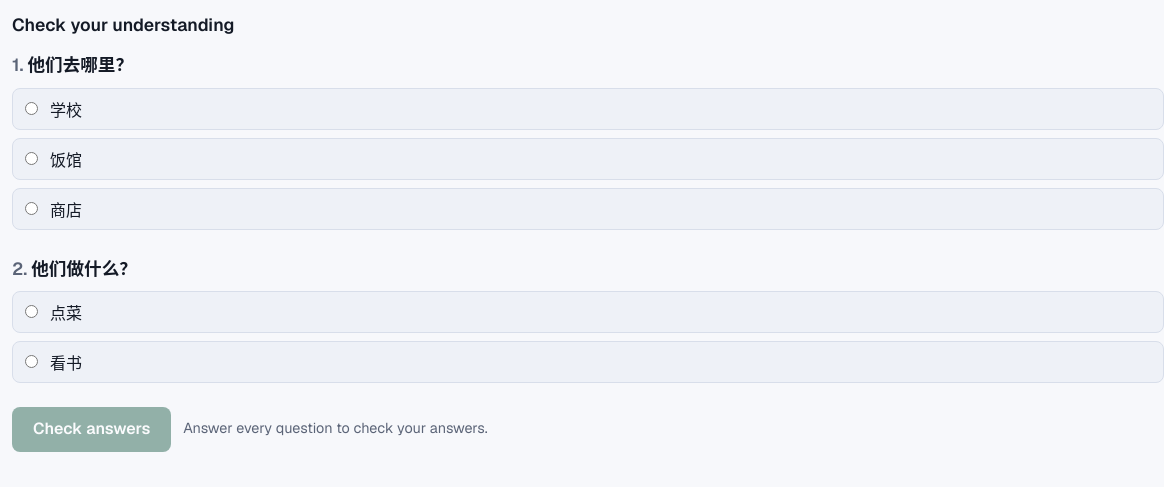
Test: StoryQuiz › says so and keeps the answers when checking fails
The width and height of the screenshot is (1164, 487).
Click the radio button labelled "饭馆" at (32, 158), box [25,152,38,165]
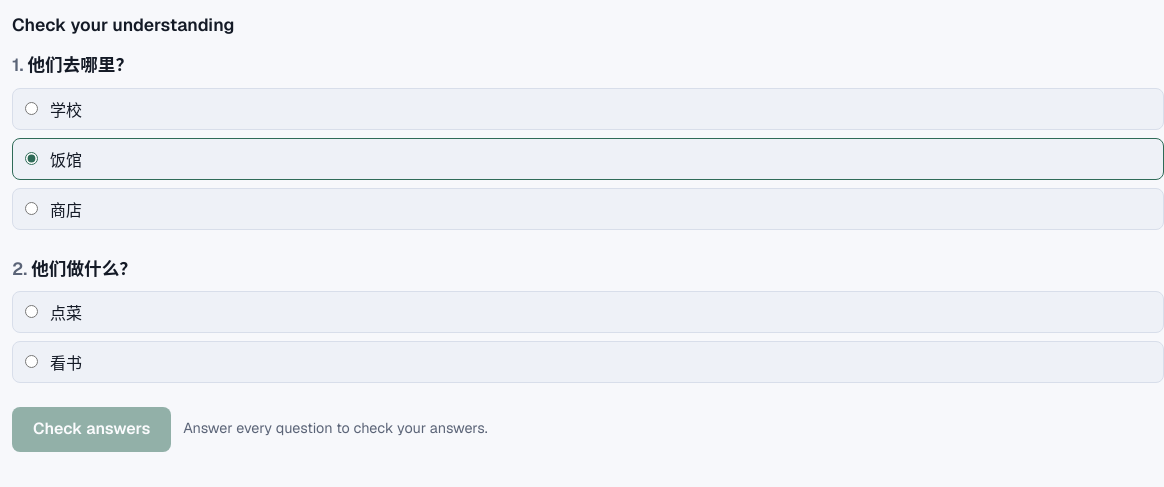
Click the radio button labelled "看书" at (32, 362), box [25,355,38,368]
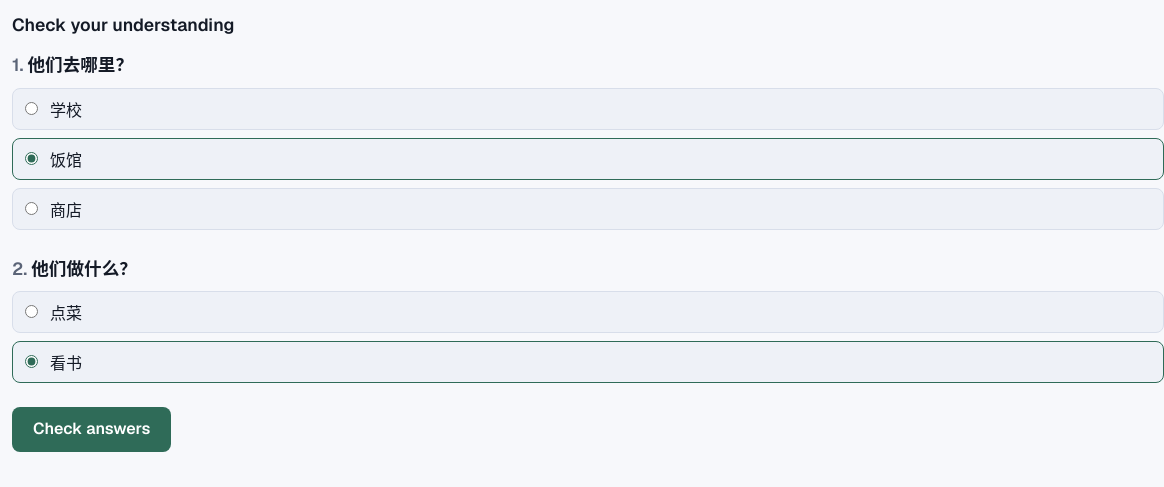
Click the button "Check answers" at (92, 429), box [12,407,171,452]
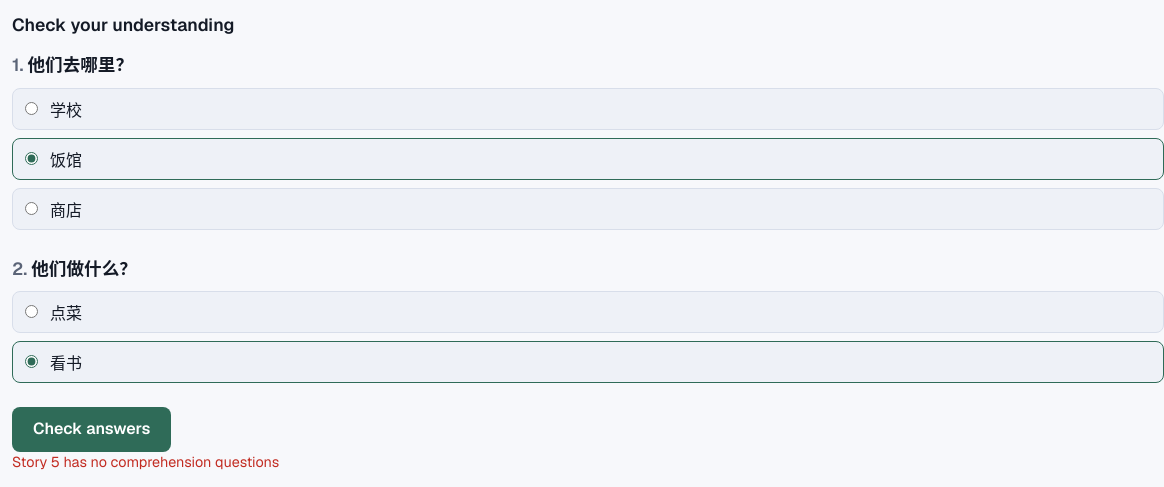
Result: the radio button labelled "饭馆" is checked at [25,152,38,165]
Result: the button "Check answers" is enabled at [12,407,171,452]
Result: the message reads "Story 5 has no comprehension questions" at [12,453,279,471]
